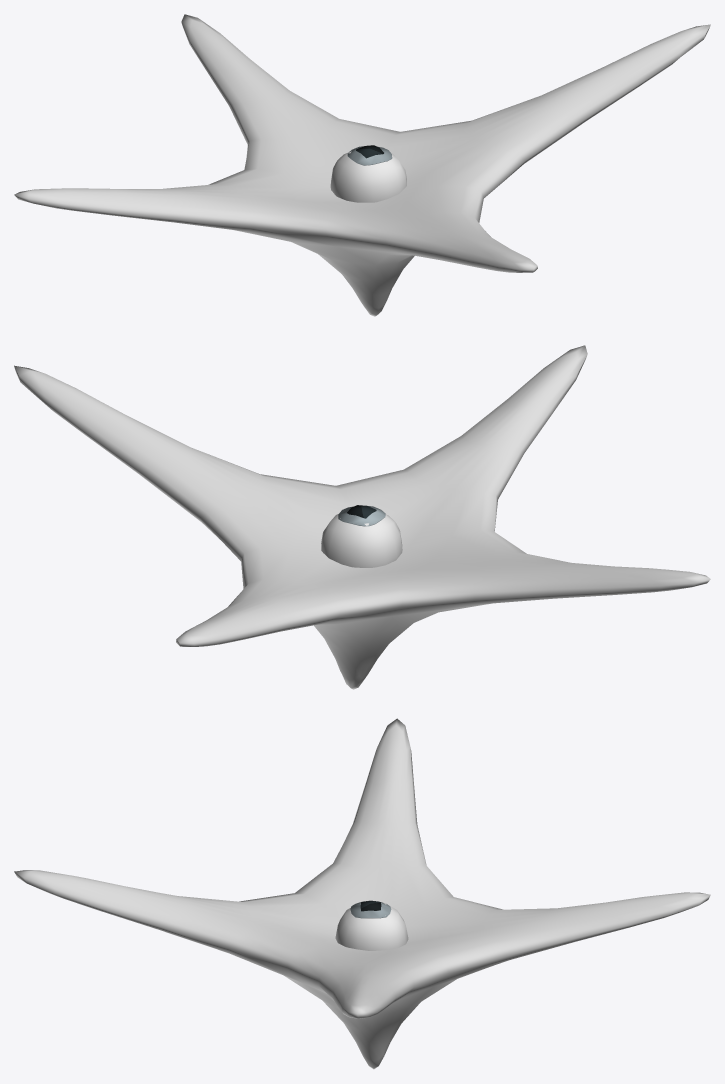
The model's file is boss.fbx.
The picture shows the model from 3 angles, top to bottom: view 1: azimuth 30°, elevation 25°; view 2: azimuth 150°, elevation 25°; view 3: azimuth 270°, elevation 25°; orthographic projection. The views are drawn at different scales.
Parts seen in each view (by area): view 1: Cube, Cube.001, Cube.002; view 2: Cube, Cube.001, Cube.002; view 3: Cube, Cube.001, Cube.002.
Boxes of the visible parts, <box> form: Cube: <box>14,14,710,316</box>; Cube.001: <box>330,151,406,202</box>; Cube.002: <box>347,145,392,165</box>; Cube: <box>14,345,710,689</box>; Cube.001: <box>321,514,402,567</box>; Cube.002: <box>338,505,385,526</box>; Cube: <box>14,718,710,1069</box>; Cube.001: <box>335,903,408,950</box>; Cube.002: <box>350,900,391,918</box>.
Bounding box in the file's own units: 20970 × 6480 × 19622.
